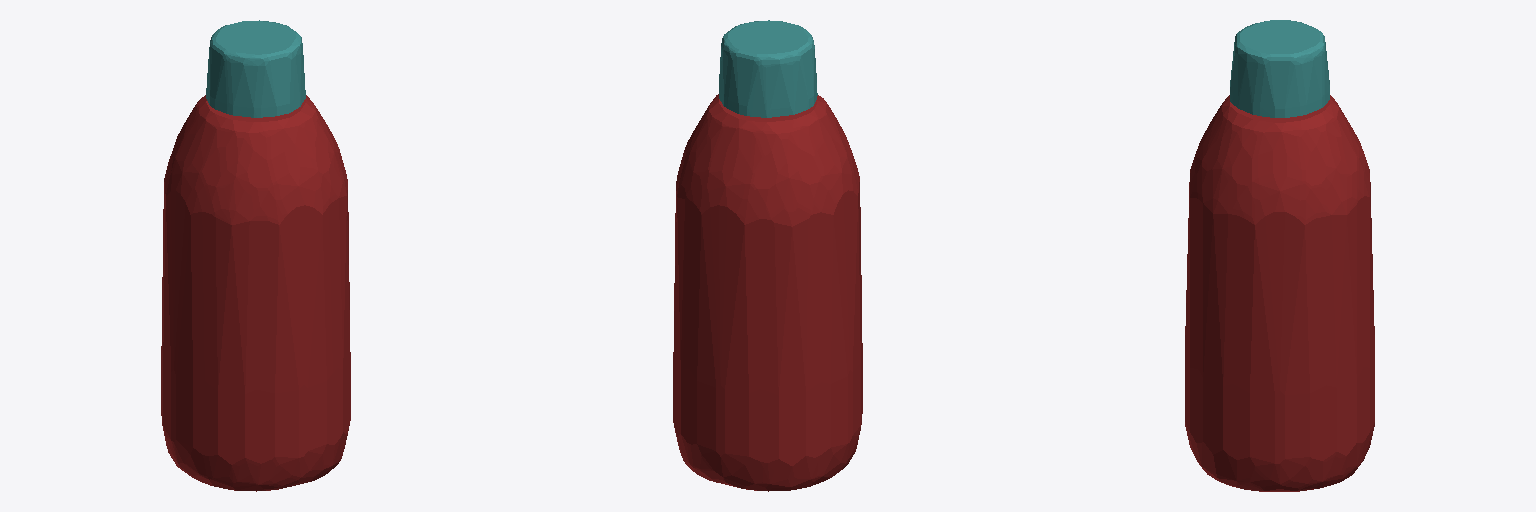
robot.urdf — root:
<robot name="root">
  <link name="bottle_body">
    <inertial>
      <origin xyz="0 0 0" rpy="0 0 0"/>
    </inertial>
    <mass value="1.00E-02"/>
    <visual>
      <origin xyz="0 0 0" rpy="0 0 0"/>
      <geometry>
        <mesh filename="core-bottle-fec05c85454edafc4310636931b68fdb-coacd_convex_piece_1.obj" scale="1.0000E-01 1.0000E-01 1.0000E-01"/>
      </geometry>
      <material name="">
        <color rgba="6.00E-01 2.00E-01 2.00E-01 1"/>
      </material>
    </visual>
    <collision>
      <origin xyz="0 0 0" rpy="0 0 0"/>
      <geometry>
        <mesh filename="core-bottle-fec05c85454edafc4310636931b68fdb-coacd_convex_piece_1.obj" scale="1.0000E-01 1.0000E-01 1.0000E-01"/>
      </geometry>
    </collision>
  </link>
  <link name="bottle_cap">
    <origin xyz="0 0 0.002" rpy="0 0 0"/>
    <mass value="1.00E-02"/>
    <visual>
      <origin xyz="0 0 0.002" rpy="0 0 0"/>
      <geometry>
        <mesh filename="core-bottle-fec05c85454edafc4310636931b68fdb-coacd_convex_piece_0.obj" scale="1.0000E-01 1.0000E-01 1.0000E-01"/>
      </geometry>
      <material name="">
        <color rgba="3.00E-01 6.00E-01 6.00E-01 1"/>
      </material>
    </visual>
    <collision>
      <origin xyz="0 0 0.002" rpy="0 0 0"/>
      <geometry>
        <mesh filename="core-bottle-fec05c85454edafc4310636931b68fdb-coacd_convex_piece_0.obj" scale="1.0000E-01 1.0000E-01 1.0000E-01"/>
      </geometry>
    </collision>
  </link>
  <joint name="bottle_cap_joint" type="revolute">
    <origin xyz="0 0 0" rpy="0 0 0"/>
    <parent link="bottle_body"/>
    <child link="bottle_cap"/>
    <axis xyz="0 0 1"/>
    <limit lower="0.00" upper="6.28"/>
    <dynamics damping="0.05"/>
  </joint>
</robot>

--- Render facts (derived) ---
The picture shows the robot from 3 angles, left to right: view 1: azimuth 30°, elevation 25°; view 2: azimuth 150°, elevation 25°; view 3: azimuth 270°, elevation 25°; orthographic projection.
Model root with 2 links and 1 joints (1 revolute), rooted at bottle_body, posed every joint at zero.
Links seen in each view (by area): view 1: bottle_body, bottle_cap; view 2: bottle_body, bottle_cap; view 3: bottle_body, bottle_cap.
Boxes of the visible links, bbox=[...] form: bottle_body: bbox=[161, 95, 350, 491]; bottle_cap: bbox=[206, 20, 305, 117]; bottle_body: bbox=[673, 94, 862, 491]; bottle_cap: bbox=[719, 20, 817, 117]; bottle_body: bbox=[1185, 95, 1374, 491]; bottle_cap: bbox=[1230, 20, 1329, 117].
Size in the robot's own frame: 0.0767 by 0.0767 by 0.1877 metres.
2 mesh visuals loaded from 2 distinct referenced files (2 OBJ).